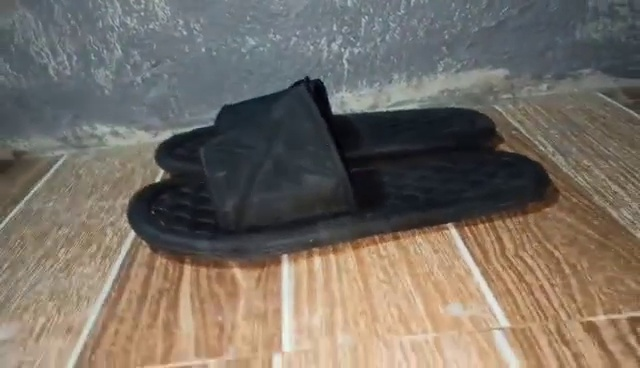slipper: (131, 80, 556, 263), (156, 81, 496, 180)
